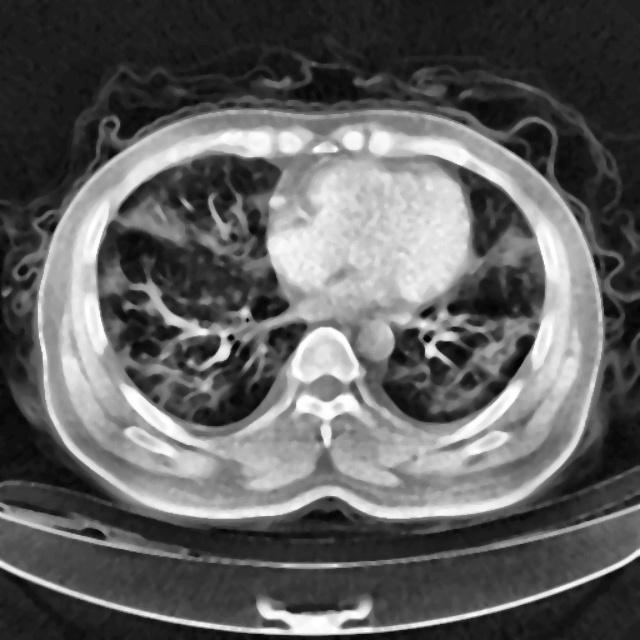covid: (20, 87, 610, 531)
